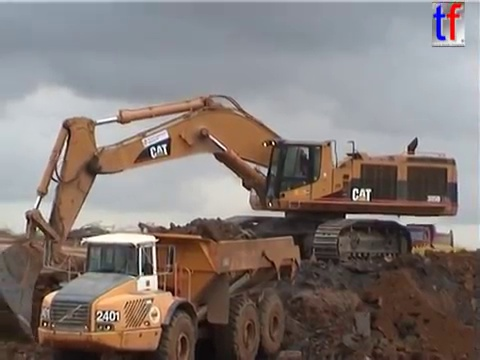excavator: (1, 90, 462, 344)
truck: (34, 229, 303, 360), (400, 222, 456, 255)
